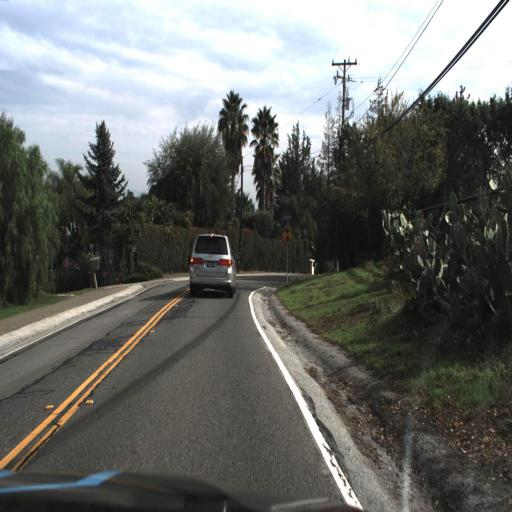car: (178, 225, 242, 305)
